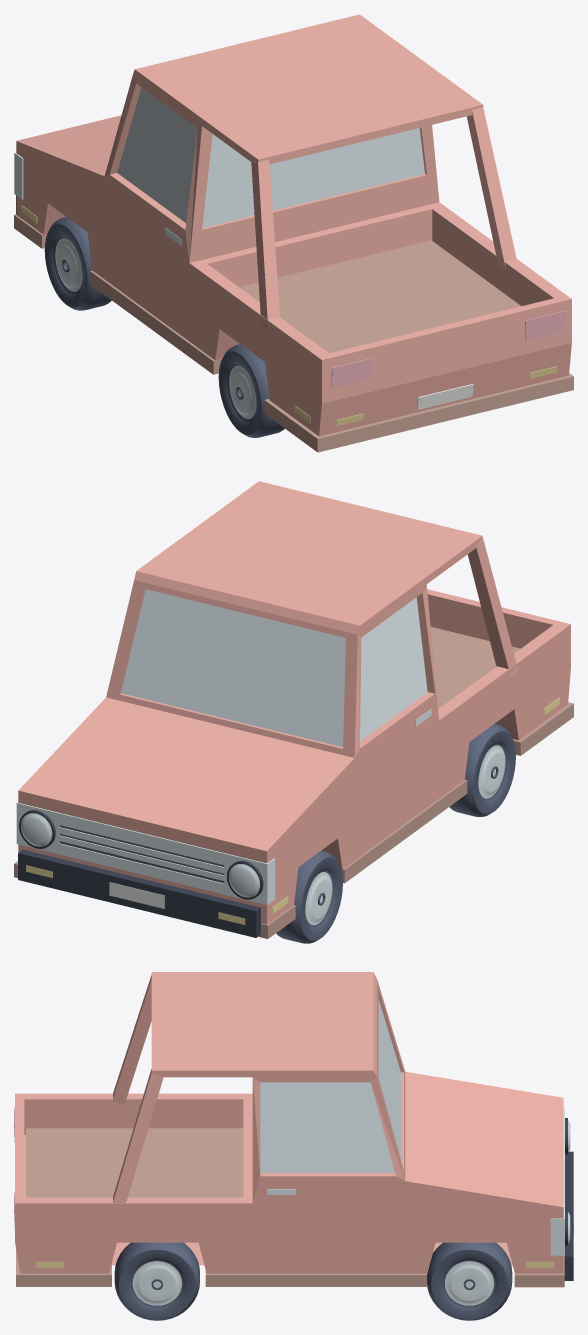
The model's file is brown.glb.
The picture shows the model from 3 angles, top to bottom: view 1: azimuth 30°, elevation 25°; view 2: azimuth 150°, elevation 25°; view 3: azimuth 270°, elevation 25°; orthographic projection. The views are drawn at different scales.
Visible parts, largest first — view 1: Cube_2; view 2: Cube_2; view 3: Cube_2.
Part boxes in pixels (x1=…): Cube_2: x1=14, y1=14, x2=573, y2=452; Cube_2: x1=14, y1=481, x2=573, y2=943; Cube_2: x1=14, y1=972, x2=573, y2=1320.
Bounding box in the file's own units: 17.63 × 17.96 × 36.89.
